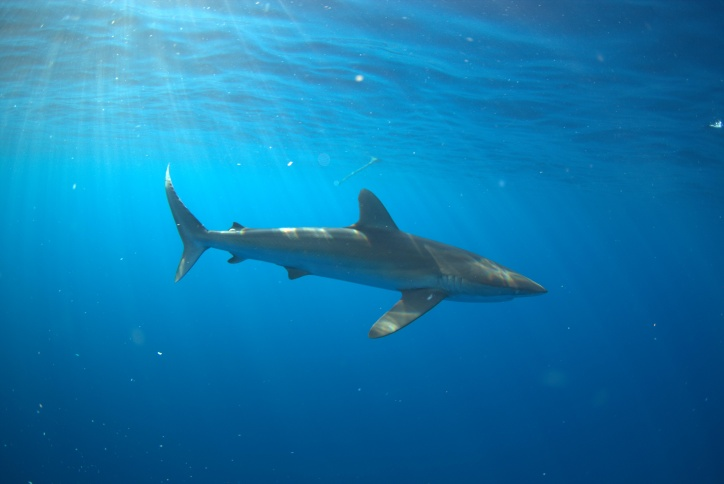Sedoso: (122, 158, 565, 352)
